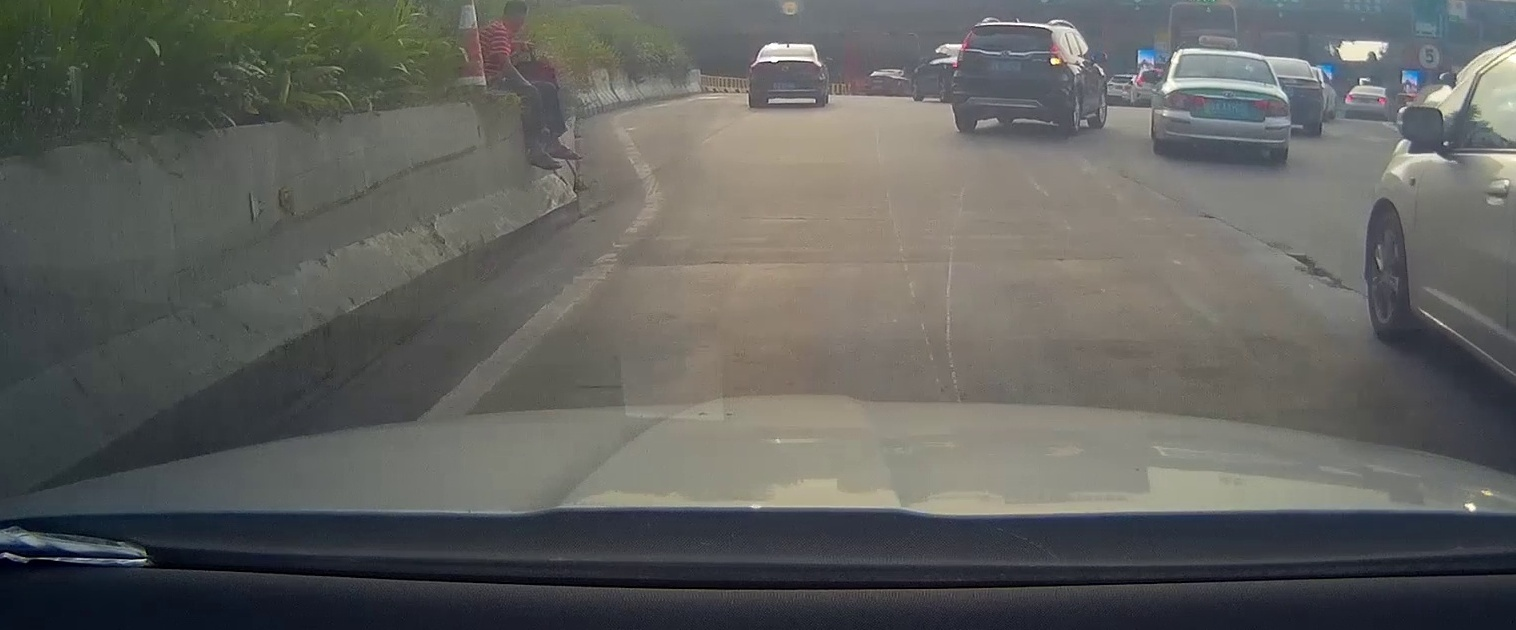L_light: (1162, 91, 1204, 109), (955, 30, 970, 68), (750, 65, 766, 74)
R_light: (1250, 99, 1289, 117), (1049, 35, 1064, 67), (806, 63, 822, 72)
T_light: (1213, 54, 1235, 60), (1002, 25, 1020, 30), (781, 46, 792, 49)
day-no: (1159, 48, 1291, 162), (749, 43, 826, 107)
day-right: (950, 22, 1071, 135)
